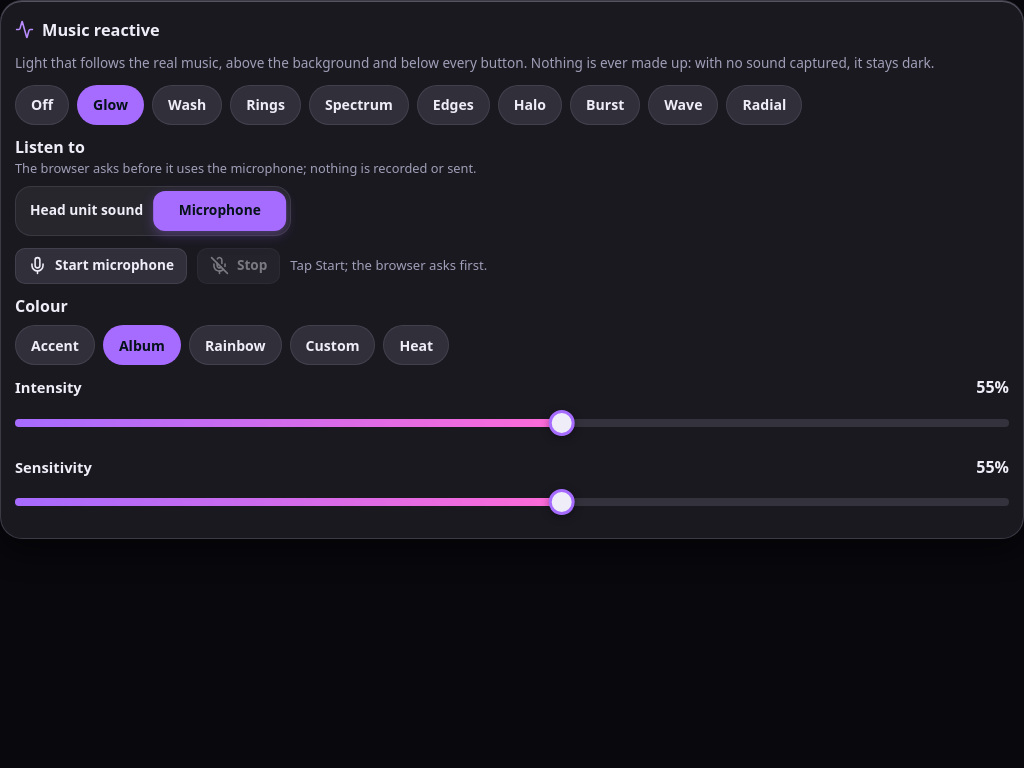
Test: Settings → Music reactive: is it really listening? › starts the microphone only from a tap, and says why when it cannot
The image size is (1024, 768).
Expected: the button with class "small" showing "Stop" is disabled, x1=197 y1=248 x2=280 y2=284
Expected: the message "Tap Start; the browser asks first." is shown, x1=290 y1=257 x2=487 y2=274
Click the button with class "small" showing "Start microphone" at (101, 266), box x1=15 y1=248 x2=187 y2=284
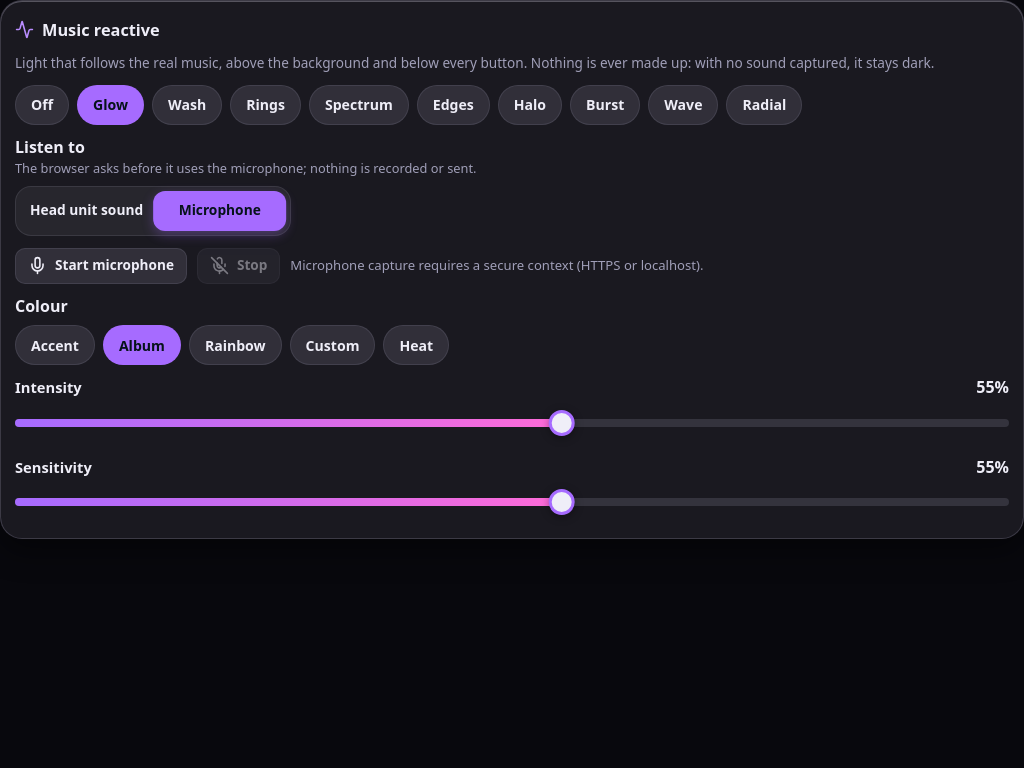
Expected: the message "Microphone capture requires a secure context (HTTPS or localhost)." is shown, x1=290 y1=257 x2=703 y2=274
